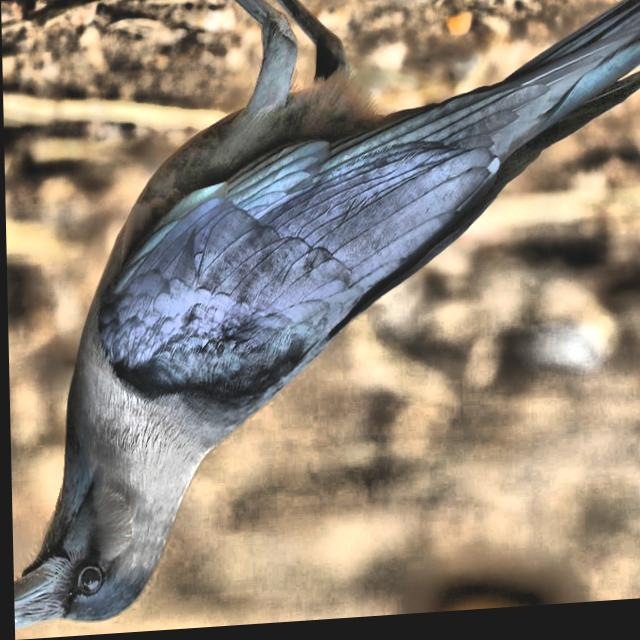crow: (0, 0, 640, 638)
